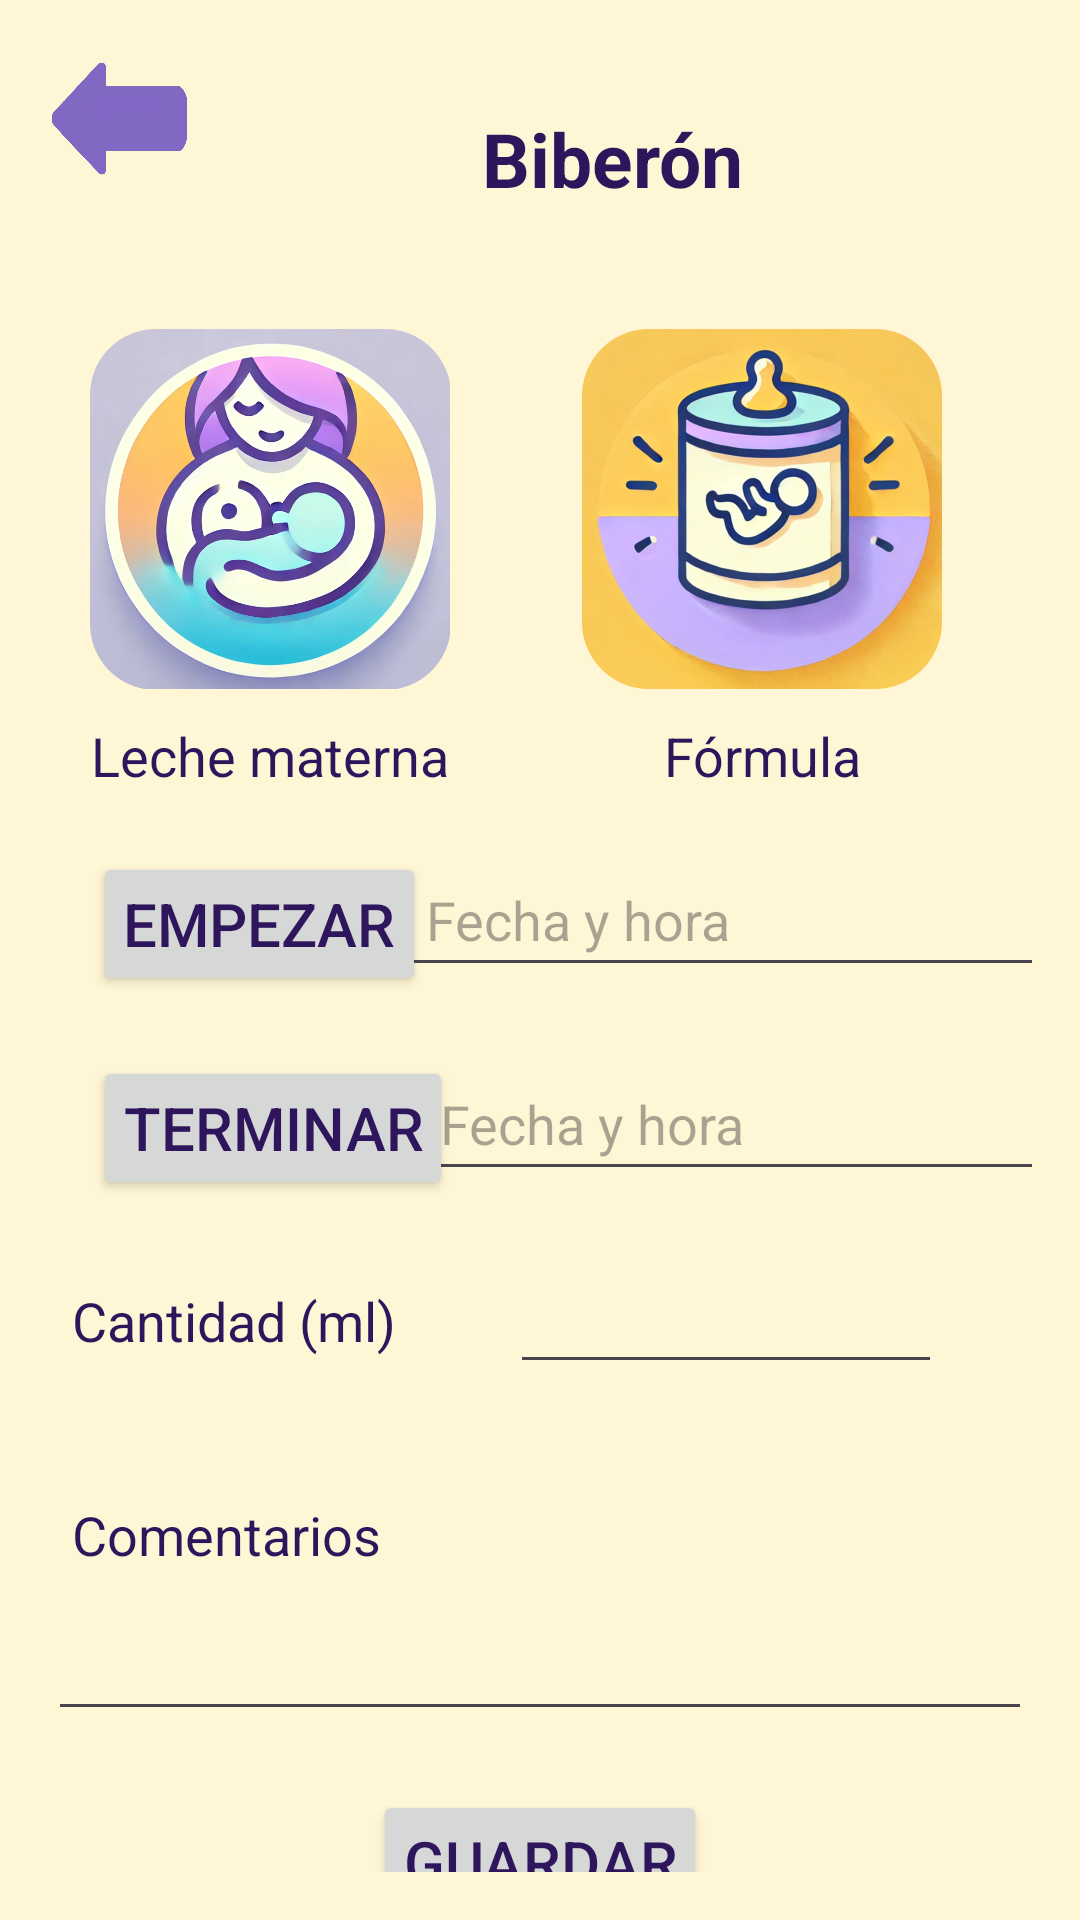

Icon bounding boxes for this 1080*1920 phone screenshot, format bbox=(x1, y1, x2, y2):
atras: bbox=(52, 63, 187, 175)
